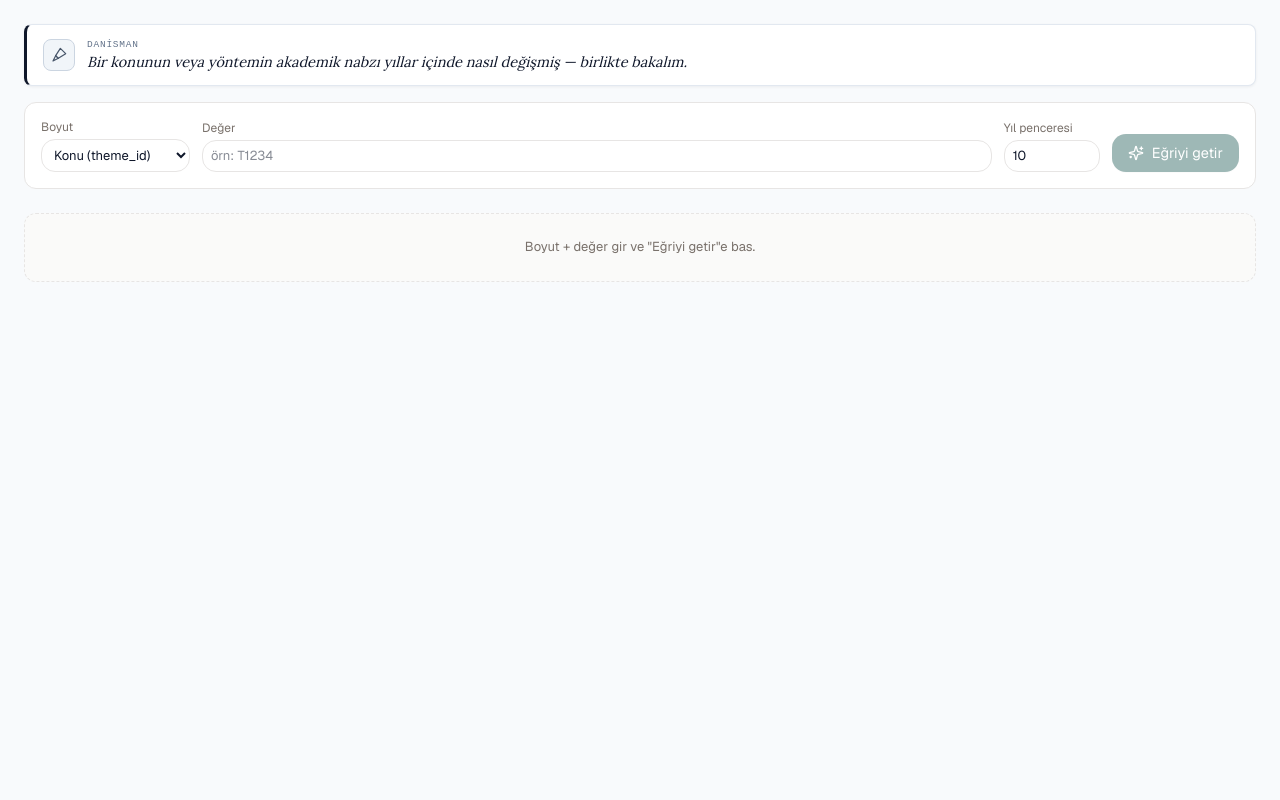
Test: ImpactCurvePage › trends_available=false → 'trend verisi yok' rozeti
The width and height of the screenshot is (1280, 800).
Step 1. Type "T1" into the field labelled "Değer" → (597, 156), box x1=202 y1=140 x2=992 y2=172
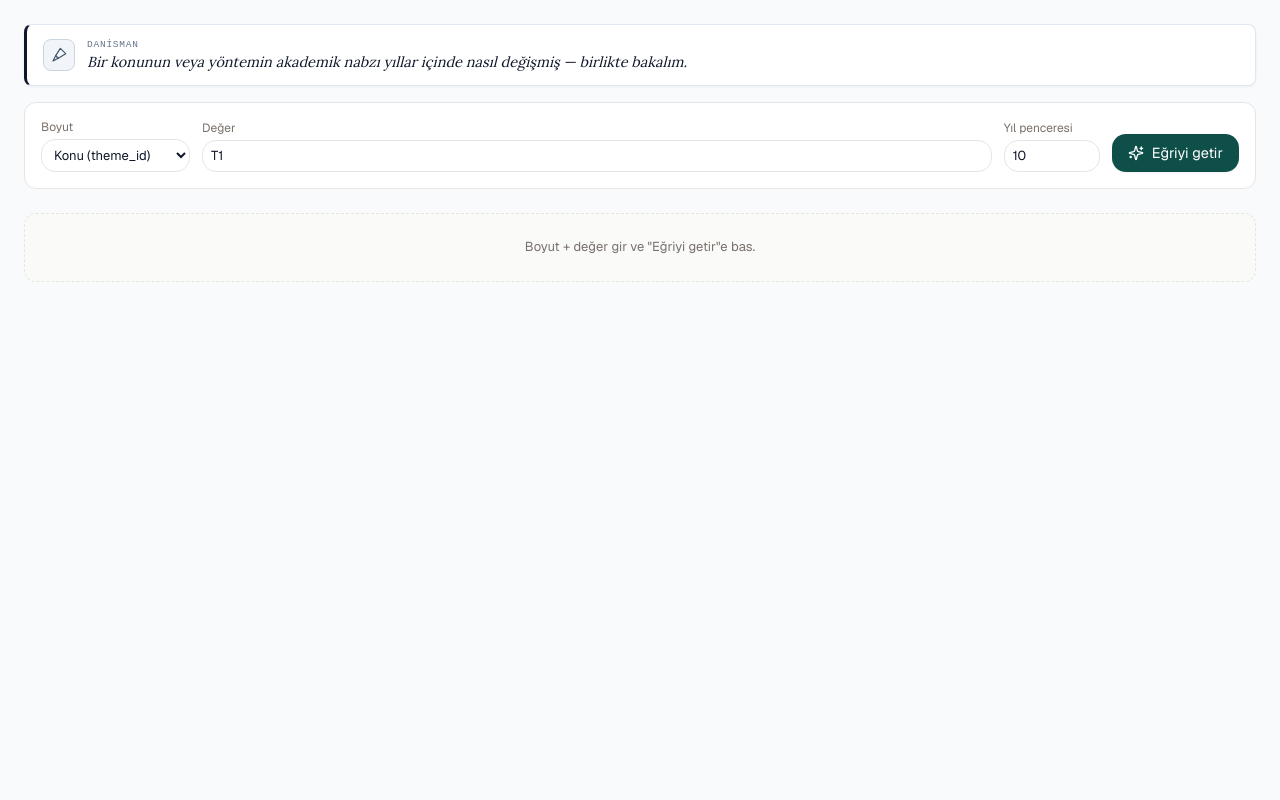
Step 2. Click the button "Eğriyi getir" → (1175, 153), box x1=1112 y1=134 x2=1239 y2=172
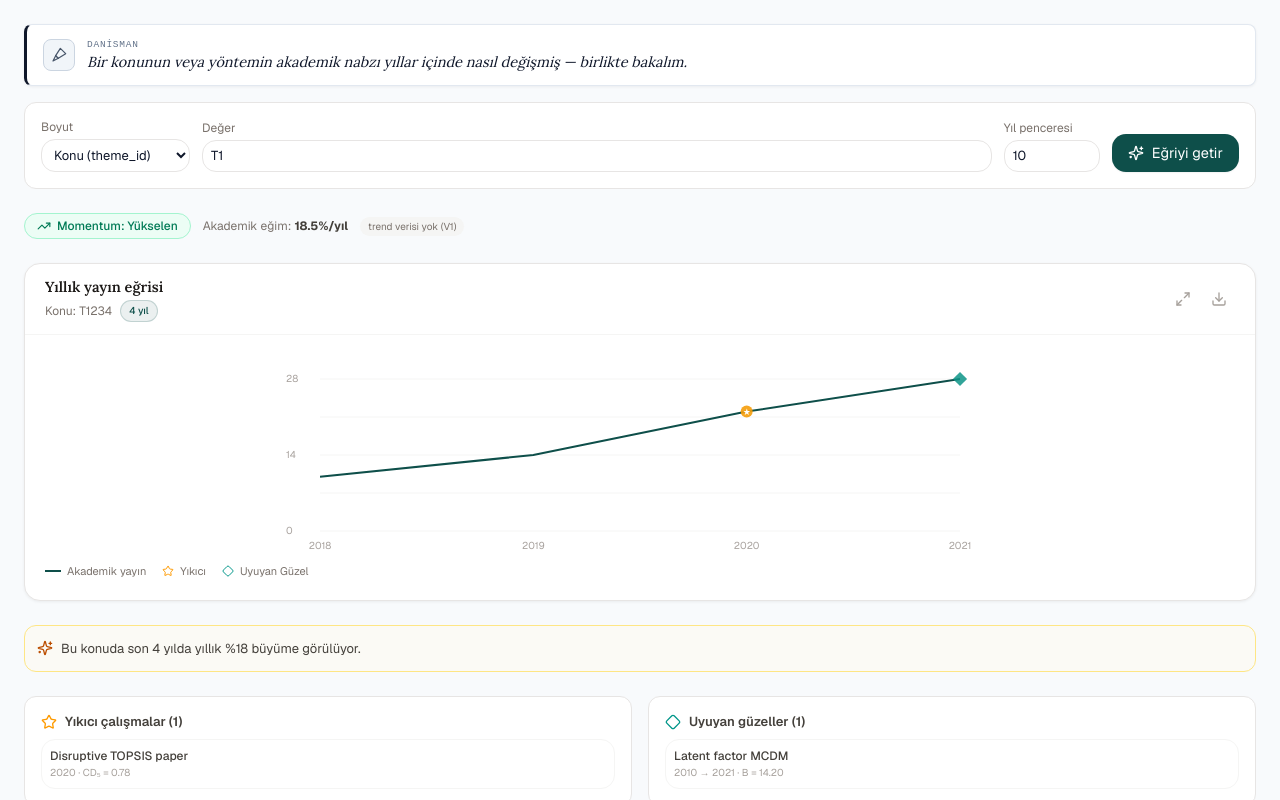
Now the text "trend verisi yok (V1)" is shown, box x1=360 y1=217 x2=464 y2=236
